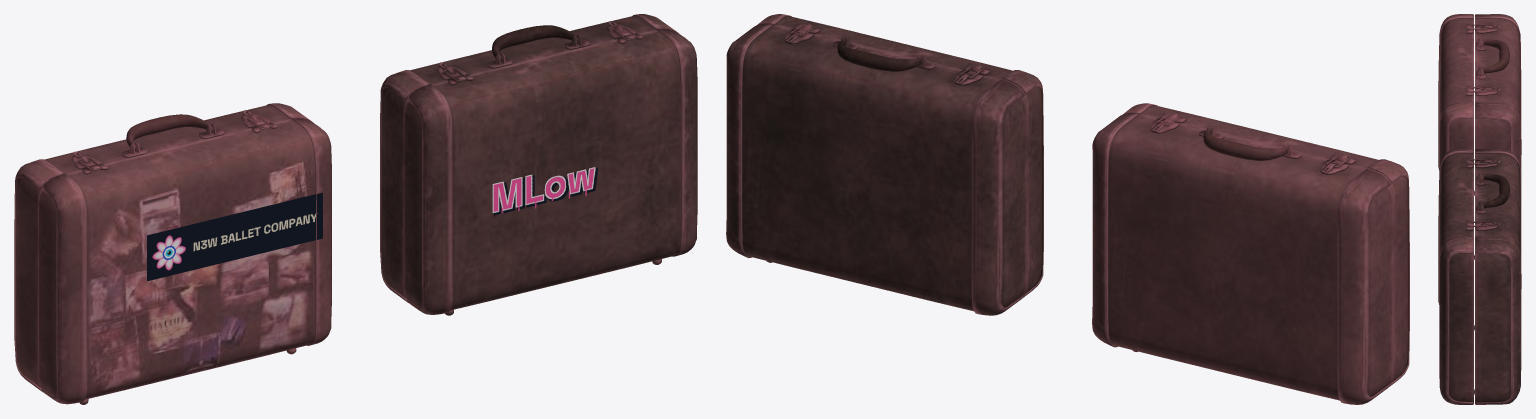
The model's file is nyb_blackswan_bag.glb.
3 views of the same model, side by side, from view 1: azimuth 30°, elevation 25°; view 2: azimuth 150°, elevation 25°; view 3: azimuth 270°, elevation 25° (orthographic). The views are drawn at different scales.
Parts seen in each view (by area): view 1: vintage_suitcase_01_bottom, stk_lbl_569a11edb3.png, stk_tag_mlow.png; view 2: vintage_suitcase_01_bottom; view 3: vintage_suitcase_01_bottom.
Part boxes in pixels (bbox=[...]): vintage_suitcase_01_bottom: bbox=[14, 14, 697, 404]; stk_lbl_569a11edb3.png: bbox=[147, 192, 322, 281]; stk_tag_mlow.png: bbox=[492, 167, 597, 215]; vintage_suitcase_01_bottom: bbox=[726, 14, 1409, 404]; vintage_suitcase_01_bottom: bbox=[1438, 14, 1521, 404].
Bounding box in the file's own units: 1.61 × 0.5679 × 0.2392.
4 materials, 4 textured.
